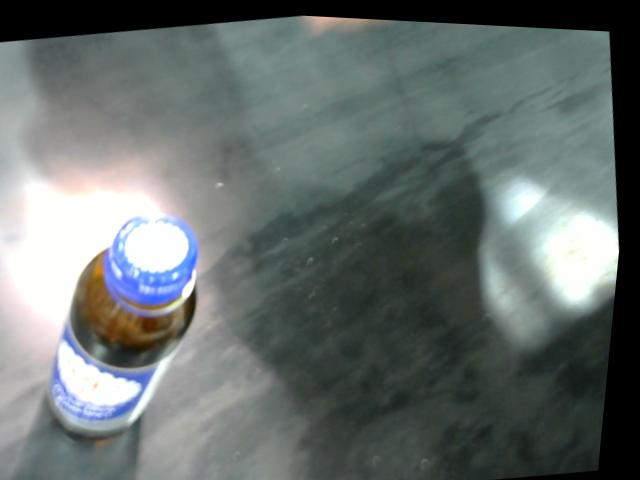glass: (50, 207, 209, 448)
